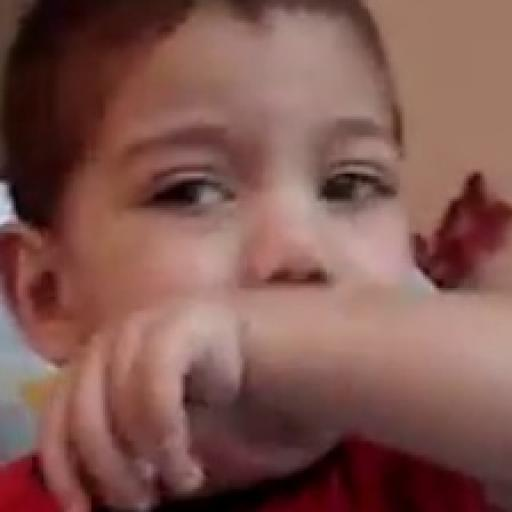Autism: (68, 4, 512, 512)
